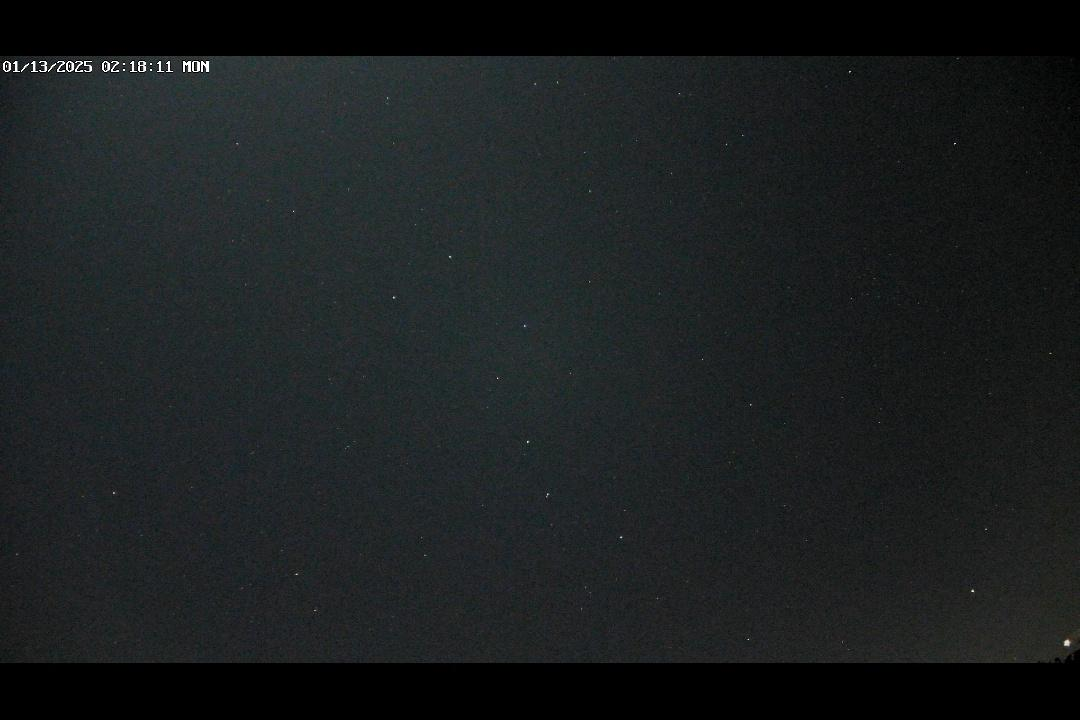Plane: (1052, 629, 1080, 649)
